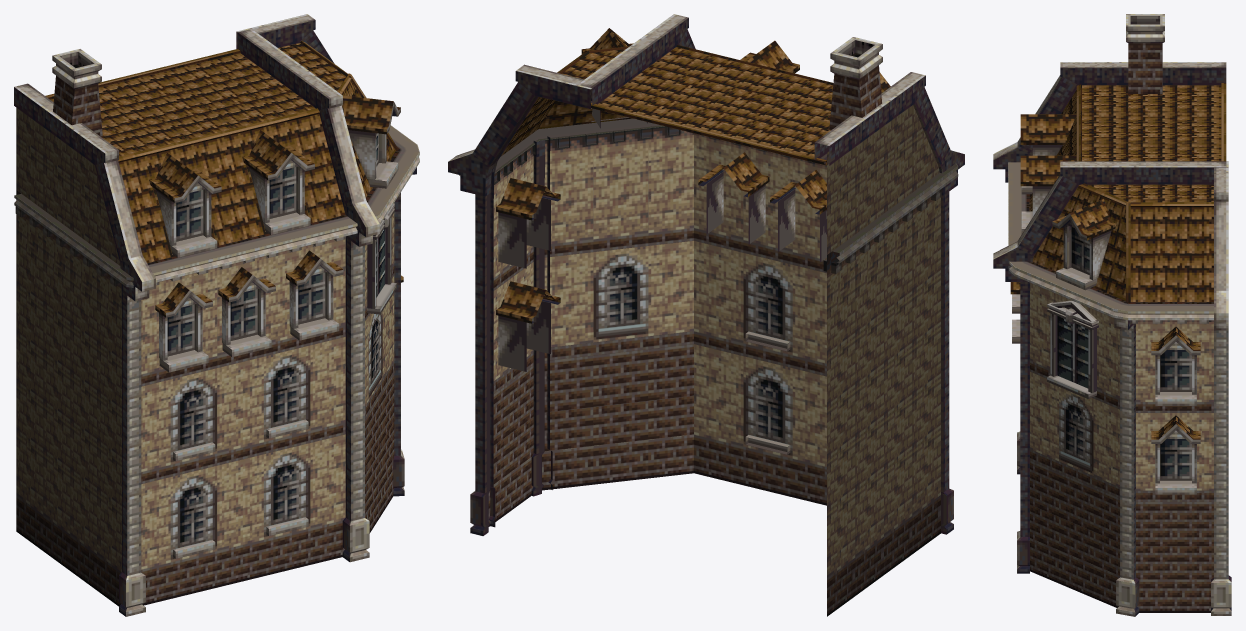
File: EnvBdgMD_City_A_Outdoor_LA.FBX
3 views of the same model, side by side, from view 1: azimuth 30°, elevation 25°; view 2: azimuth 150°, elevation 25°; view 3: azimuth 270°, elevation 25° (orthographic). The views are drawn at different scales.
Visible parts, largest first — view 1: EnvBdgMD_City_A_Outdoor_LA; view 2: EnvBdgMD_City_A_Outdoor_LA; view 3: EnvBdgMD_City_A_Outdoor_LA.
Boxes of the visible parts, bbox=[...] form: EnvBdgMD_City_A_Outdoor_LA: bbox=[14, 14, 419, 616]; EnvBdgMD_City_A_Outdoor_LA: bbox=[448, 14, 964, 616]; EnvBdgMD_City_A_Outdoor_LA: bbox=[993, 14, 1231, 616].
Bounding box in the file's own units: 779 × 487 × 1025.
1 material, 1 textured.
